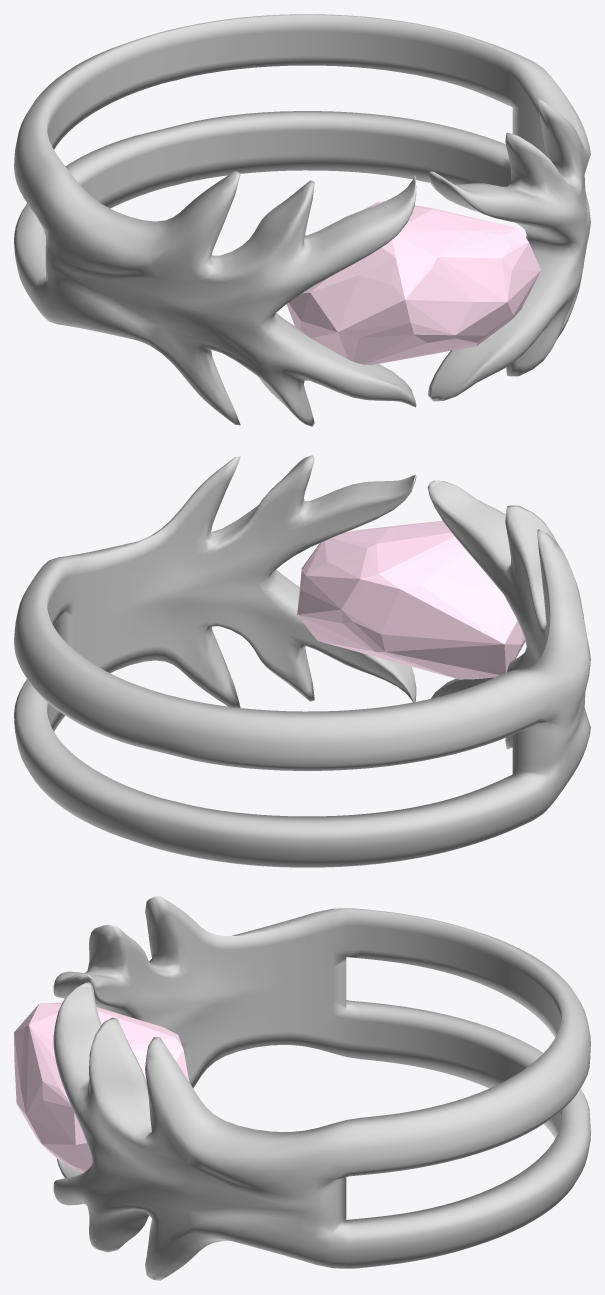
File: 3rdRing.glb
3 renders of one model, top to bottom at view 1: azimuth 30°, elevation 25°; view 2: azimuth 150°, elevation 25°; view 3: azimuth 270°, elevation 25°, orthographic. The views are drawn at different scales.
Visible parts, largest first — view 1: Metal_g, Gem; view 2: Metal_g, Gem; view 3: Metal_g, Gem.
Part boxes in pixels (box(x1,y1,x2,y2)): Metal_g: box(14, 14, 590, 426); Gem: box(286, 201, 540, 365); Metal_g: box(14, 455, 590, 867); Gem: box(297, 520, 525, 679); Metal_g: box(53, 896, 590, 1280); Gem: box(14, 1002, 189, 1172).
Size of the model in its own units: 1.68 by 0.791 by 1.7.
